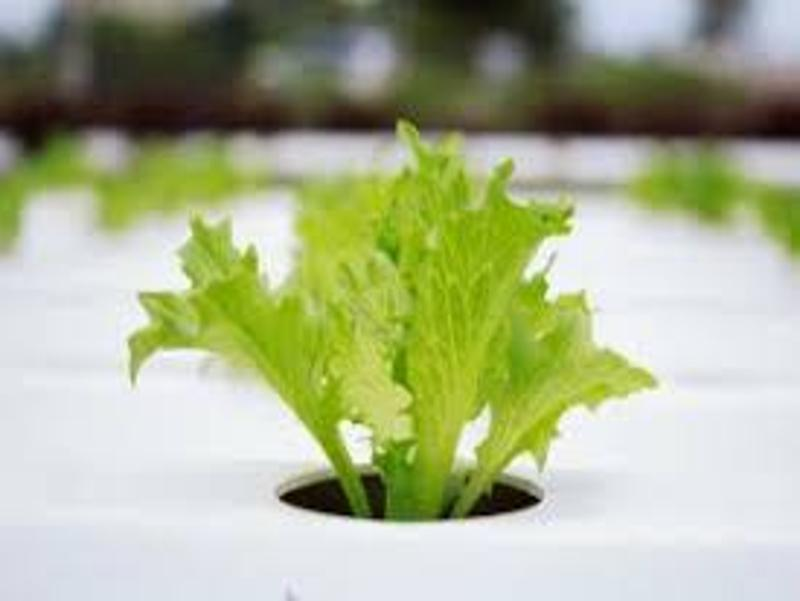green lettuce: (145, 137, 640, 507)
